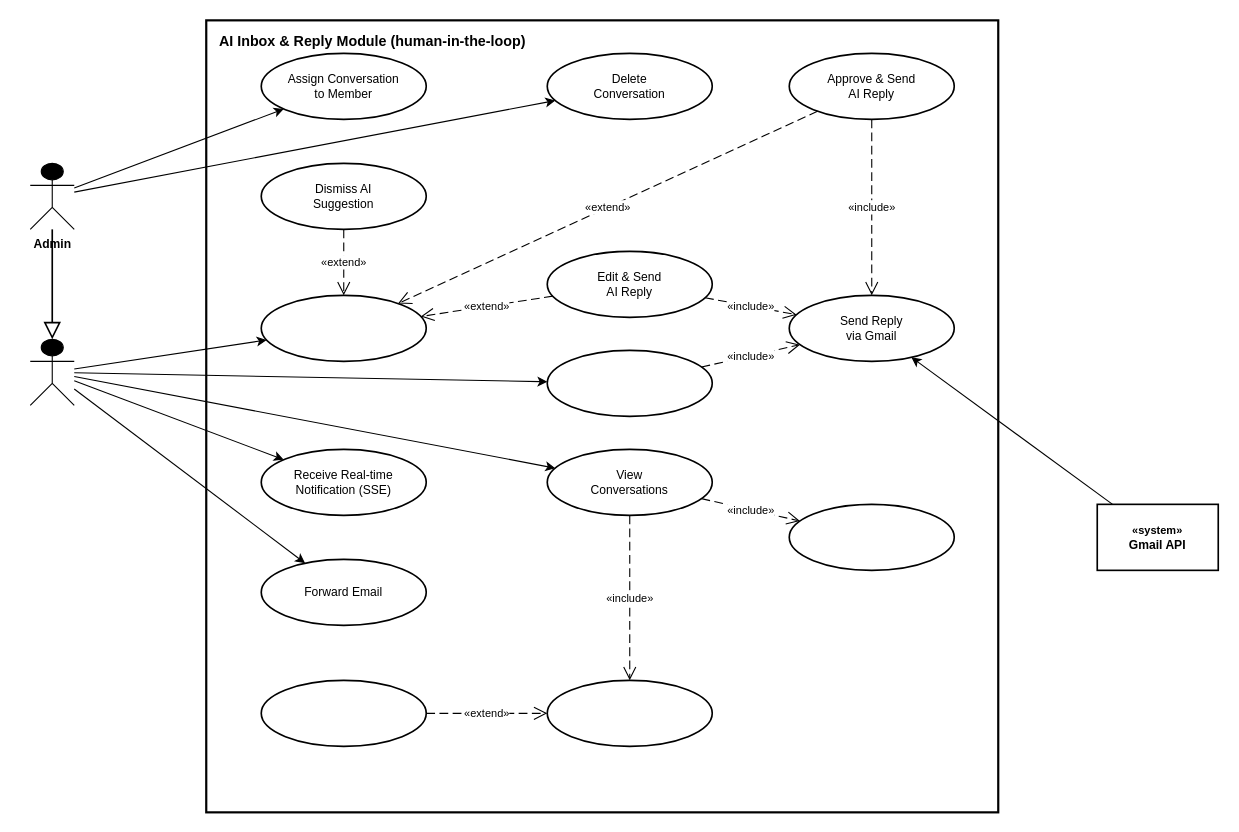
The diagram is 1239 pixels wide and 832 high, and some of its shapes have lost their labels. Each missing label, with the centre of its shape:
BD (Sales Rep): (x=51, y=371)
Filter by Tab (inbox/sent/trash): (x=871, y=537)
Read Email Thread: (x=629, y=713)
Reply Manually: (x=629, y=383)
Review AI Suggested Reply: (x=343, y=328)
View Intent Classification: (x=343, y=713)
